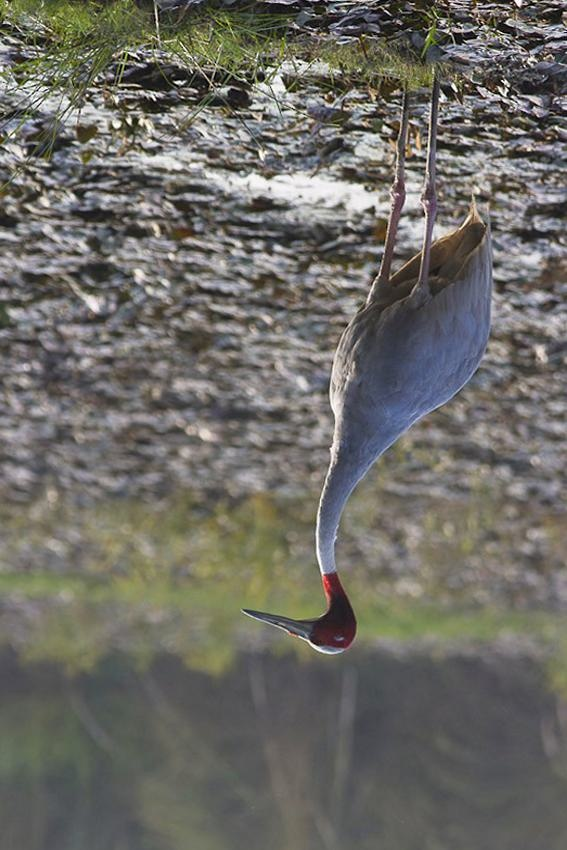crane: (227, 69, 567, 673)
